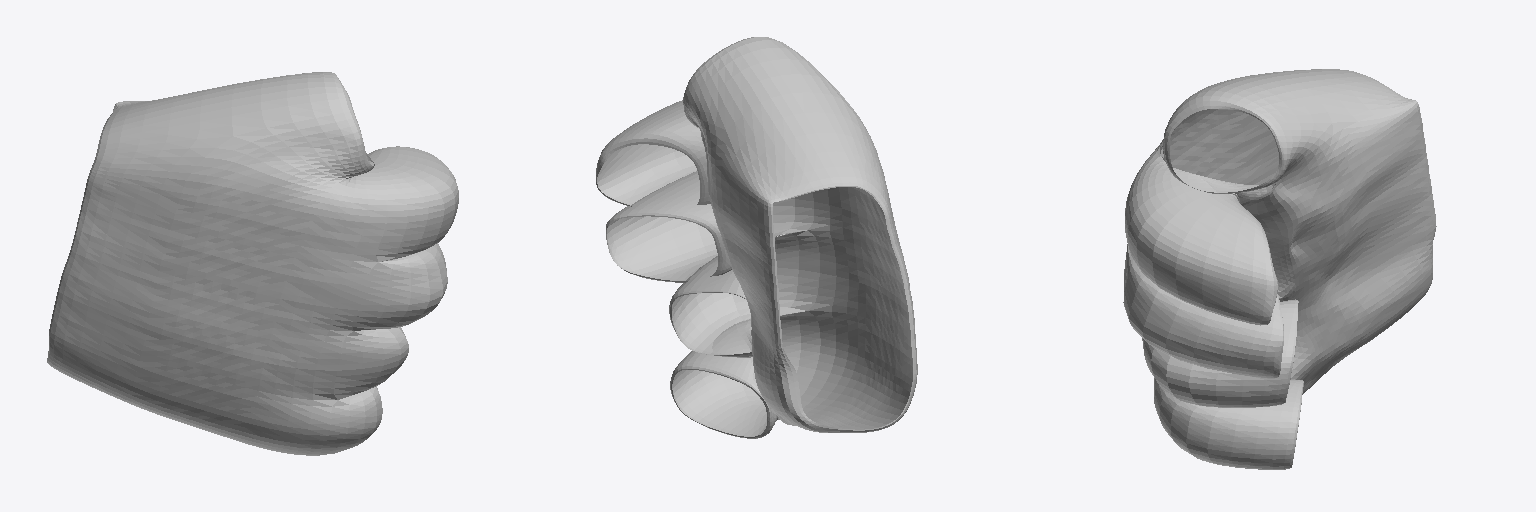
File: SubTool-25-14973829.OBJ
3 views of the same model, side by side, from view 1: azimuth 30°, elevation 25°; view 2: azimuth 150°, elevation 25°; view 3: azimuth 270°, elevation 25° (orthographic).
Visible parts, largest first — view 1: Group8; view 2: Group8; view 3: Group8.
Part boxes in pixels (left/top/right/bottom): Group8: left=47, top=72, right=458, bottom=455; Group8: left=596, top=37, right=917, bottom=438; Group8: left=1123, top=69, right=1436, bottom=469.
Size of the model in its own units: 6.84 by 6.79 by 5.23.